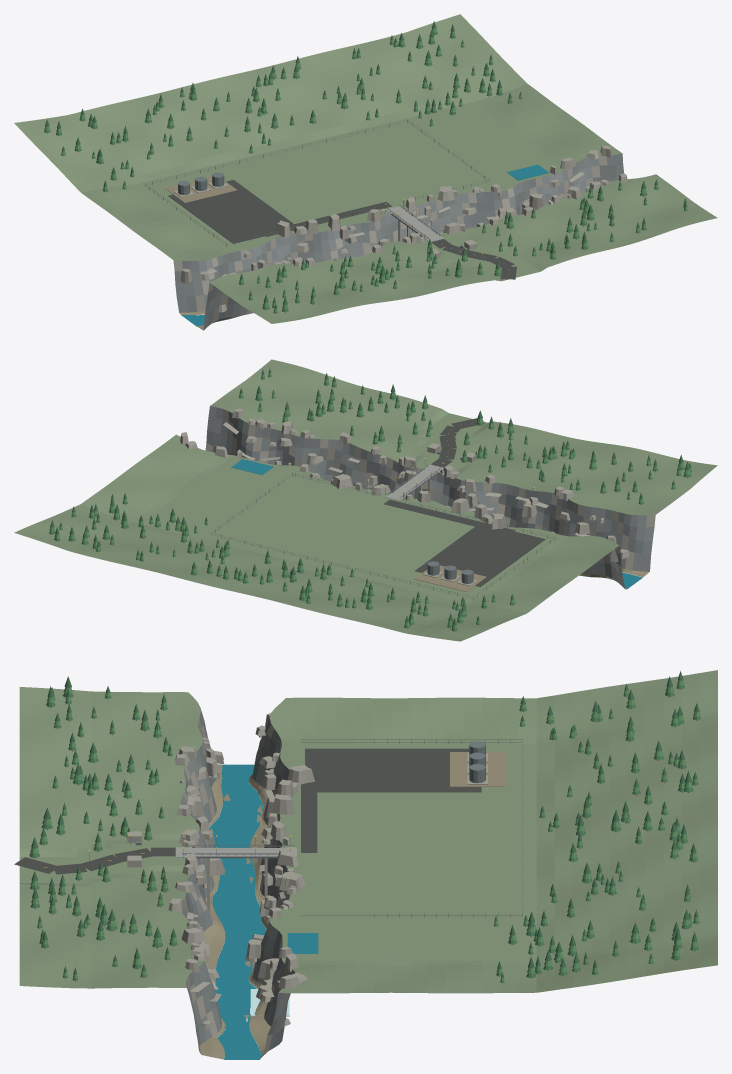
The model's file is Chimera_Environment_Naturalized_Proxies.fbx.
3 renders of one model, top to bottom at view 1: azimuth 30°, elevation 25°; view 2: azimuth 150°, elevation 25°; view 3: azimuth 270°, elevation 25°, orthographic. The views are drawn at different scales.
Visible parts, largest first — view 1: ENV_TERRAIN_NORTH__WAREHOUSE_PLATEAU, ENV_TERRAIN_SOUTH__APPROACH_PLATEAU, ENV_CLIFF_NORTH__FACILITY_SIDE, ENV_WEST_SERVICE_YARD, ENV_CLIFF_SOUTH__APPROACH_SIDE, ENV_UTILITY_EQUIPMENT_PAD, ENV_WEST_SERVICE_ACCESS_LANE; view 2: ENV_TERRAIN_NORTH__WAREHOUSE_PLATEAU, ENV_TERRAIN_SOUTH__APPROACH_PLATEAU, ENV_CLIFF_SOUTH__APPROACH_SIDE, ENV_WEST_SERVICE_YARD, ENV_CLIFF_NORTH__FACILITY_SIDE, ENV_WEST_SERVICE_ACCESS_LANE, ENV_UTILITY_EQUIPMENT_PAD; view 3: ENV_TERRAIN_NORTH__WAREHOUSE_PLATEAU, ENV_TERRAIN_SOUTH__APPROACH_PLATEAU, ENV_RIVER_WINDING_WATER_SPLINE_PROXY, ENV_WEST_SERVICE_YARD, ENV_CLIFF_SOUTH__APPROACH_SIDE, ENV_CLIFF_NORTH__FACILITY_SIDE, ENV_RIVER_SOUTH_ERODED_SHORE, ENV_RIVER_NORTH_ERODED_SHORE, ENV_UTILITY_EQUIPMENT_PAD, ENV_WEST_SERVICE_ACCESS_LANE, ENV_BRIDGE_DECK_MAIN, ENV_WATERFALL_TOP_POOL.
Part boxes in pixels (left/top/right/bottom): ENV_TERRAIN_NORTH__WAREHOUSE_PLATEAU: left=14, top=14, right=622, bottom=260; ENV_TERRAIN_SOUTH__APPROACH_PLATEAU: left=209, top=174, right=717, bottom=323; ENV_CLIFF_NORTH__FACILITY_SIDE: left=173, top=153, right=623, bottom=312; ENV_WEST_SERVICE_YARD: left=168, top=180, right=296, bottom=243; ENV_CLIFF_SOUTH__APPROACH_SIDE: left=203, top=282, right=253, bottom=330; ENV_UTILITY_EQUIPMENT_PAD: left=165, top=176, right=237, bottom=202; ENV_WEST_SERVICE_ACCESS_LANE: left=265, top=202, right=391, bottom=236; ENV_TERRAIN_NORTH__WAREHOUSE_PLATEAU: left=14, top=434, right=619, bottom=641; ENV_TERRAIN_SOUTH__APPROACH_PLATEAU: left=210, top=359, right=717, bottom=515; ENV_CLIFF_SOUTH__APPROACH_SIDE: left=205, top=406, right=655, bottom=571; ENV_WEST_SERVICE_YARD: left=415, top=523, right=545, bottom=586; ENV_CLIFF_NORTH__FACILITY_SIDE: left=581, top=546, right=625, bottom=588; ENV_WEST_SERVICE_ACCESS_LANE: left=384, top=499, right=515, bottom=531; ENV_UTILITY_EQUIPMENT_PAD: left=414, top=565, right=486, bottom=591; ENV_TERRAIN_NORTH__WAREHOUSE_PLATEAU: left=269, top=670, right=717, bottom=993; ENV_TERRAIN_SOUTH__APPROACH_PLATEAU: left=19, top=687, right=203, bottom=988; ENV_RIVER_WINDING_WATER_SPLINE_PROXY: left=209, top=764, right=266, bottom=1059; ENV_WEST_SERVICE_YARD: left=305, top=748, right=481, bottom=792; ENV_CLIFF_SOUTH__APPROACH_SIDE: left=181, top=708, right=221, bottom=1054; ENV_CLIFF_NORTH__FACILITY_SIDE: left=252, top=715, right=294, bottom=1054; ENV_RIVER_SOUTH_ERODED_SHORE: left=199, top=764, right=225, bottom=1059; ENV_RIVER_NORTH_ERODED_SHORE: left=248, top=774, right=270, bottom=1058; ENV_UTILITY_EQUIPMENT_PAD: left=450, top=752, right=505, bottom=786; ENV_WEST_SERVICE_ACCESS_LANE: left=301, top=783, right=317, bottom=852; ENV_BRIDGE_DECK_MAIN: left=192, top=848, right=280, bottom=856; ENV_WATERFALL_TOP_POOL: left=287, top=933, right=318, bottom=953.
Bounding box in the file's own units: 34000 × 34272 × 5764.
